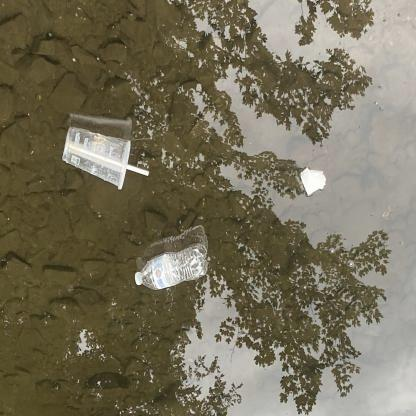Plastic: (58, 118, 154, 194), (132, 238, 211, 293)
Trash: (294, 162, 330, 202)
